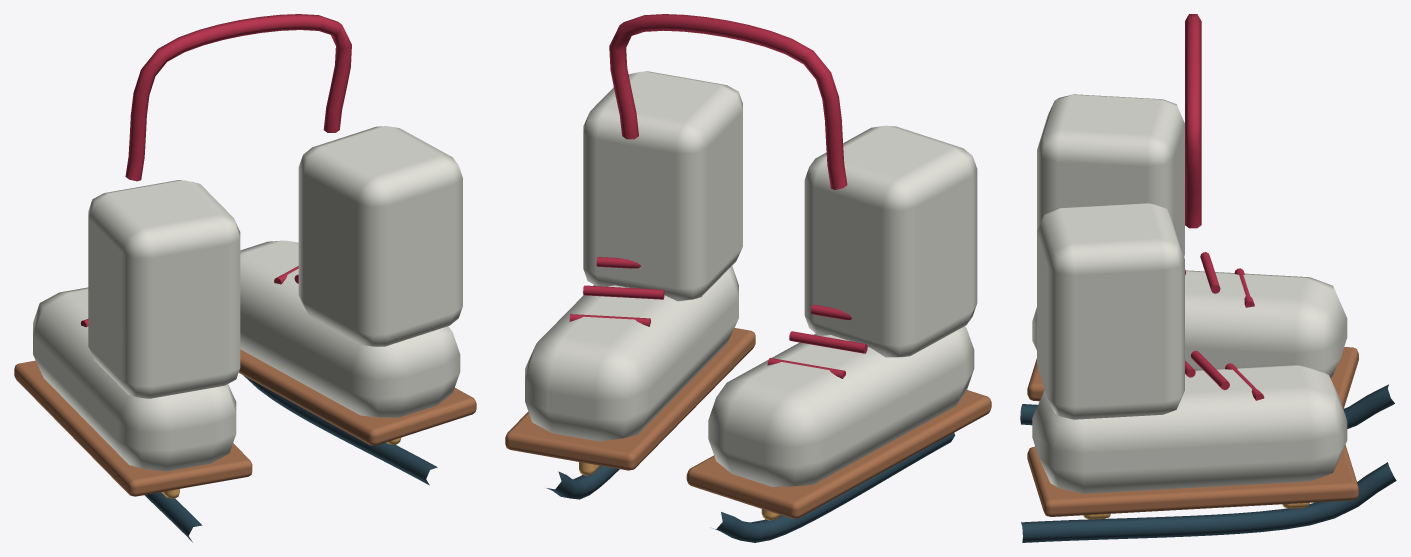
File: storybook-christmas-market-lace-up-ice-skates-823184fe__19733.glb
The picture shows the model from 3 angles, left to right: view 1: azimuth 30°, elevation 25°; view 2: azimuth 150°, elevation 25°; view 3: azimuth 270°, elevation 25°; orthographic projection. The views are drawn at different scales.
Visible parts, largest first — view 1: lace-up-ice-skates; view 2: lace-up-ice-skates; view 3: lace-up-ice-skates.
Boxes of the visible parts, box(x1,y1,x2,y2) form: lace-up-ice-skates: box(14, 14, 476, 542); lace-up-ice-skates: box(505, 14, 991, 542); lace-up-ice-skates: box(1020, 14, 1396, 542).
Bounding box in the file's own units: 0.5954 × 0.7077 × 0.5438.
